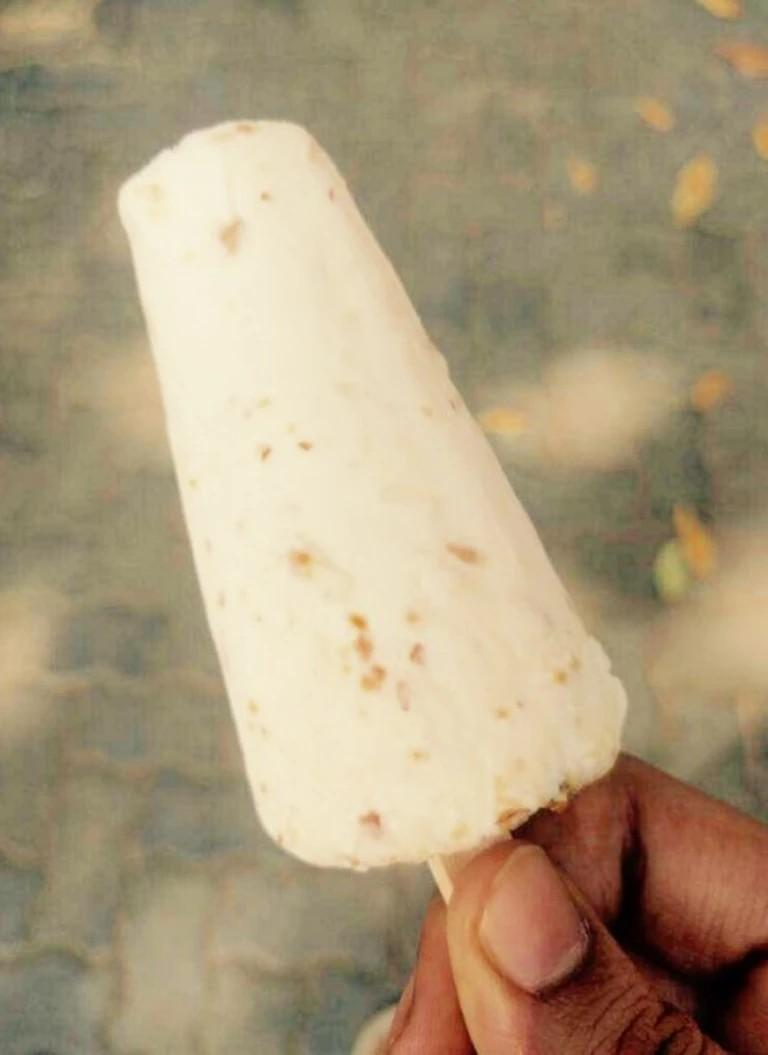Kulfi: (125, 112, 631, 876)
